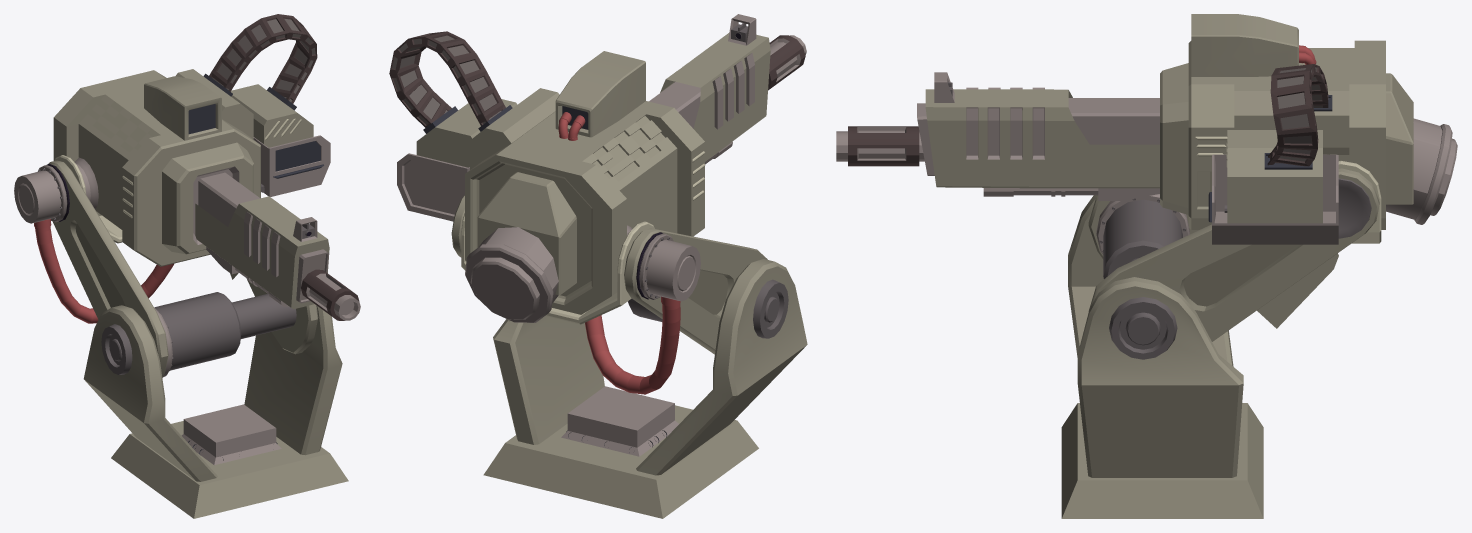
The model's file is HW6 XYZ turret.fbx.
The picture shows the model from 3 angles, left to right: view 1: azimuth 30°, elevation 25°; view 2: azimuth 150°, elevation 25°; view 3: azimuth 270°, elevation 25°; orthographic projection. The views are drawn at different scales.
Visible parts, largest first — view 1: Cube.019, Cube, Cube.006, Plane.003, Cylinder.004, Cube.004, Cube.012, Cube.007, Cylinder.005, Cylinder.006, Cube.010, Cube.001 (+1 smaller); view 2: Cube.019, Cube, Cube.006, Cylinder, Plane.003, Cube.004, Cube.012, Cube.007, Cylinder.006, Cylinder.005, Cylinder.004, Cube.020 (+4 smaller); view 3: Cube.019, Cube, Cube.006, Plane.003, Cube.004, Cylinder.004, Cube.007, Cube.012, Cylinder, Cube.010, Cube.002, Cylinder.002 (+1 smaller).
Boxes of the visible parts, box(x1,y1,x2,y2) form: Cube.019: box(83, 305, 348, 518); Cube: box(53, 69, 260, 266); Cube.006: box(195, 172, 329, 309); Plane.003: box(48, 160, 318, 377); Cylinder.004: box(101, 292, 296, 377); Cube.004: box(203, 73, 330, 196); Cube.012: box(209, 14, 317, 103); Cube.007: box(144, 76, 221, 140); Cylinder.005: box(14, 157, 173, 371); Cylinder.006: box(34, 219, 173, 323); Cube.010: box(301, 269, 360, 320); Cube.001: box(244, 211, 280, 277); Cube.019: box(483, 259, 807, 518); Cube: box(465, 88, 704, 314); Cube.006: box(649, 33, 770, 161); Cylinder: box(465, 227, 558, 322); Plane.003: box(451, 195, 767, 354); Cube.004: box(397, 99, 517, 221); Cube.012: box(389, 31, 505, 127); Cube.007: box(555, 51, 645, 137); Cylinder.006: box(585, 296, 680, 394); Cylinder.005: box(627, 225, 700, 301); Cylinder.004: box(628, 279, 788, 338); Cube.020: box(461, 213, 654, 324); Cube.019: box(1061, 195, 1263, 518); Cube: box(1160, 40, 1413, 229); Cube.006: box(917, 89, 1159, 188); Plane.003: box(1088, 168, 1379, 341); Cube.004: box(1212, 95, 1338, 244); Cylinder.004: box(1096, 178, 1371, 359); Cube.007: box(1191, 14, 1298, 76); Cube.012: box(1267, 64, 1328, 166); Cylinder: box(1386, 118, 1457, 224); Cube.010: box(836, 126, 924, 166); Cube.002: box(1257, 253, 1338, 328); Cylinder.002: box(983, 188, 1098, 196).
Bounding box in the file's own units: 441 × 613 × 733.
